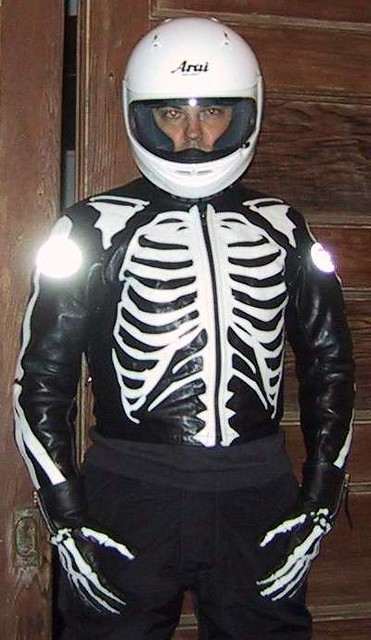helmet: (113, 19, 272, 198)
